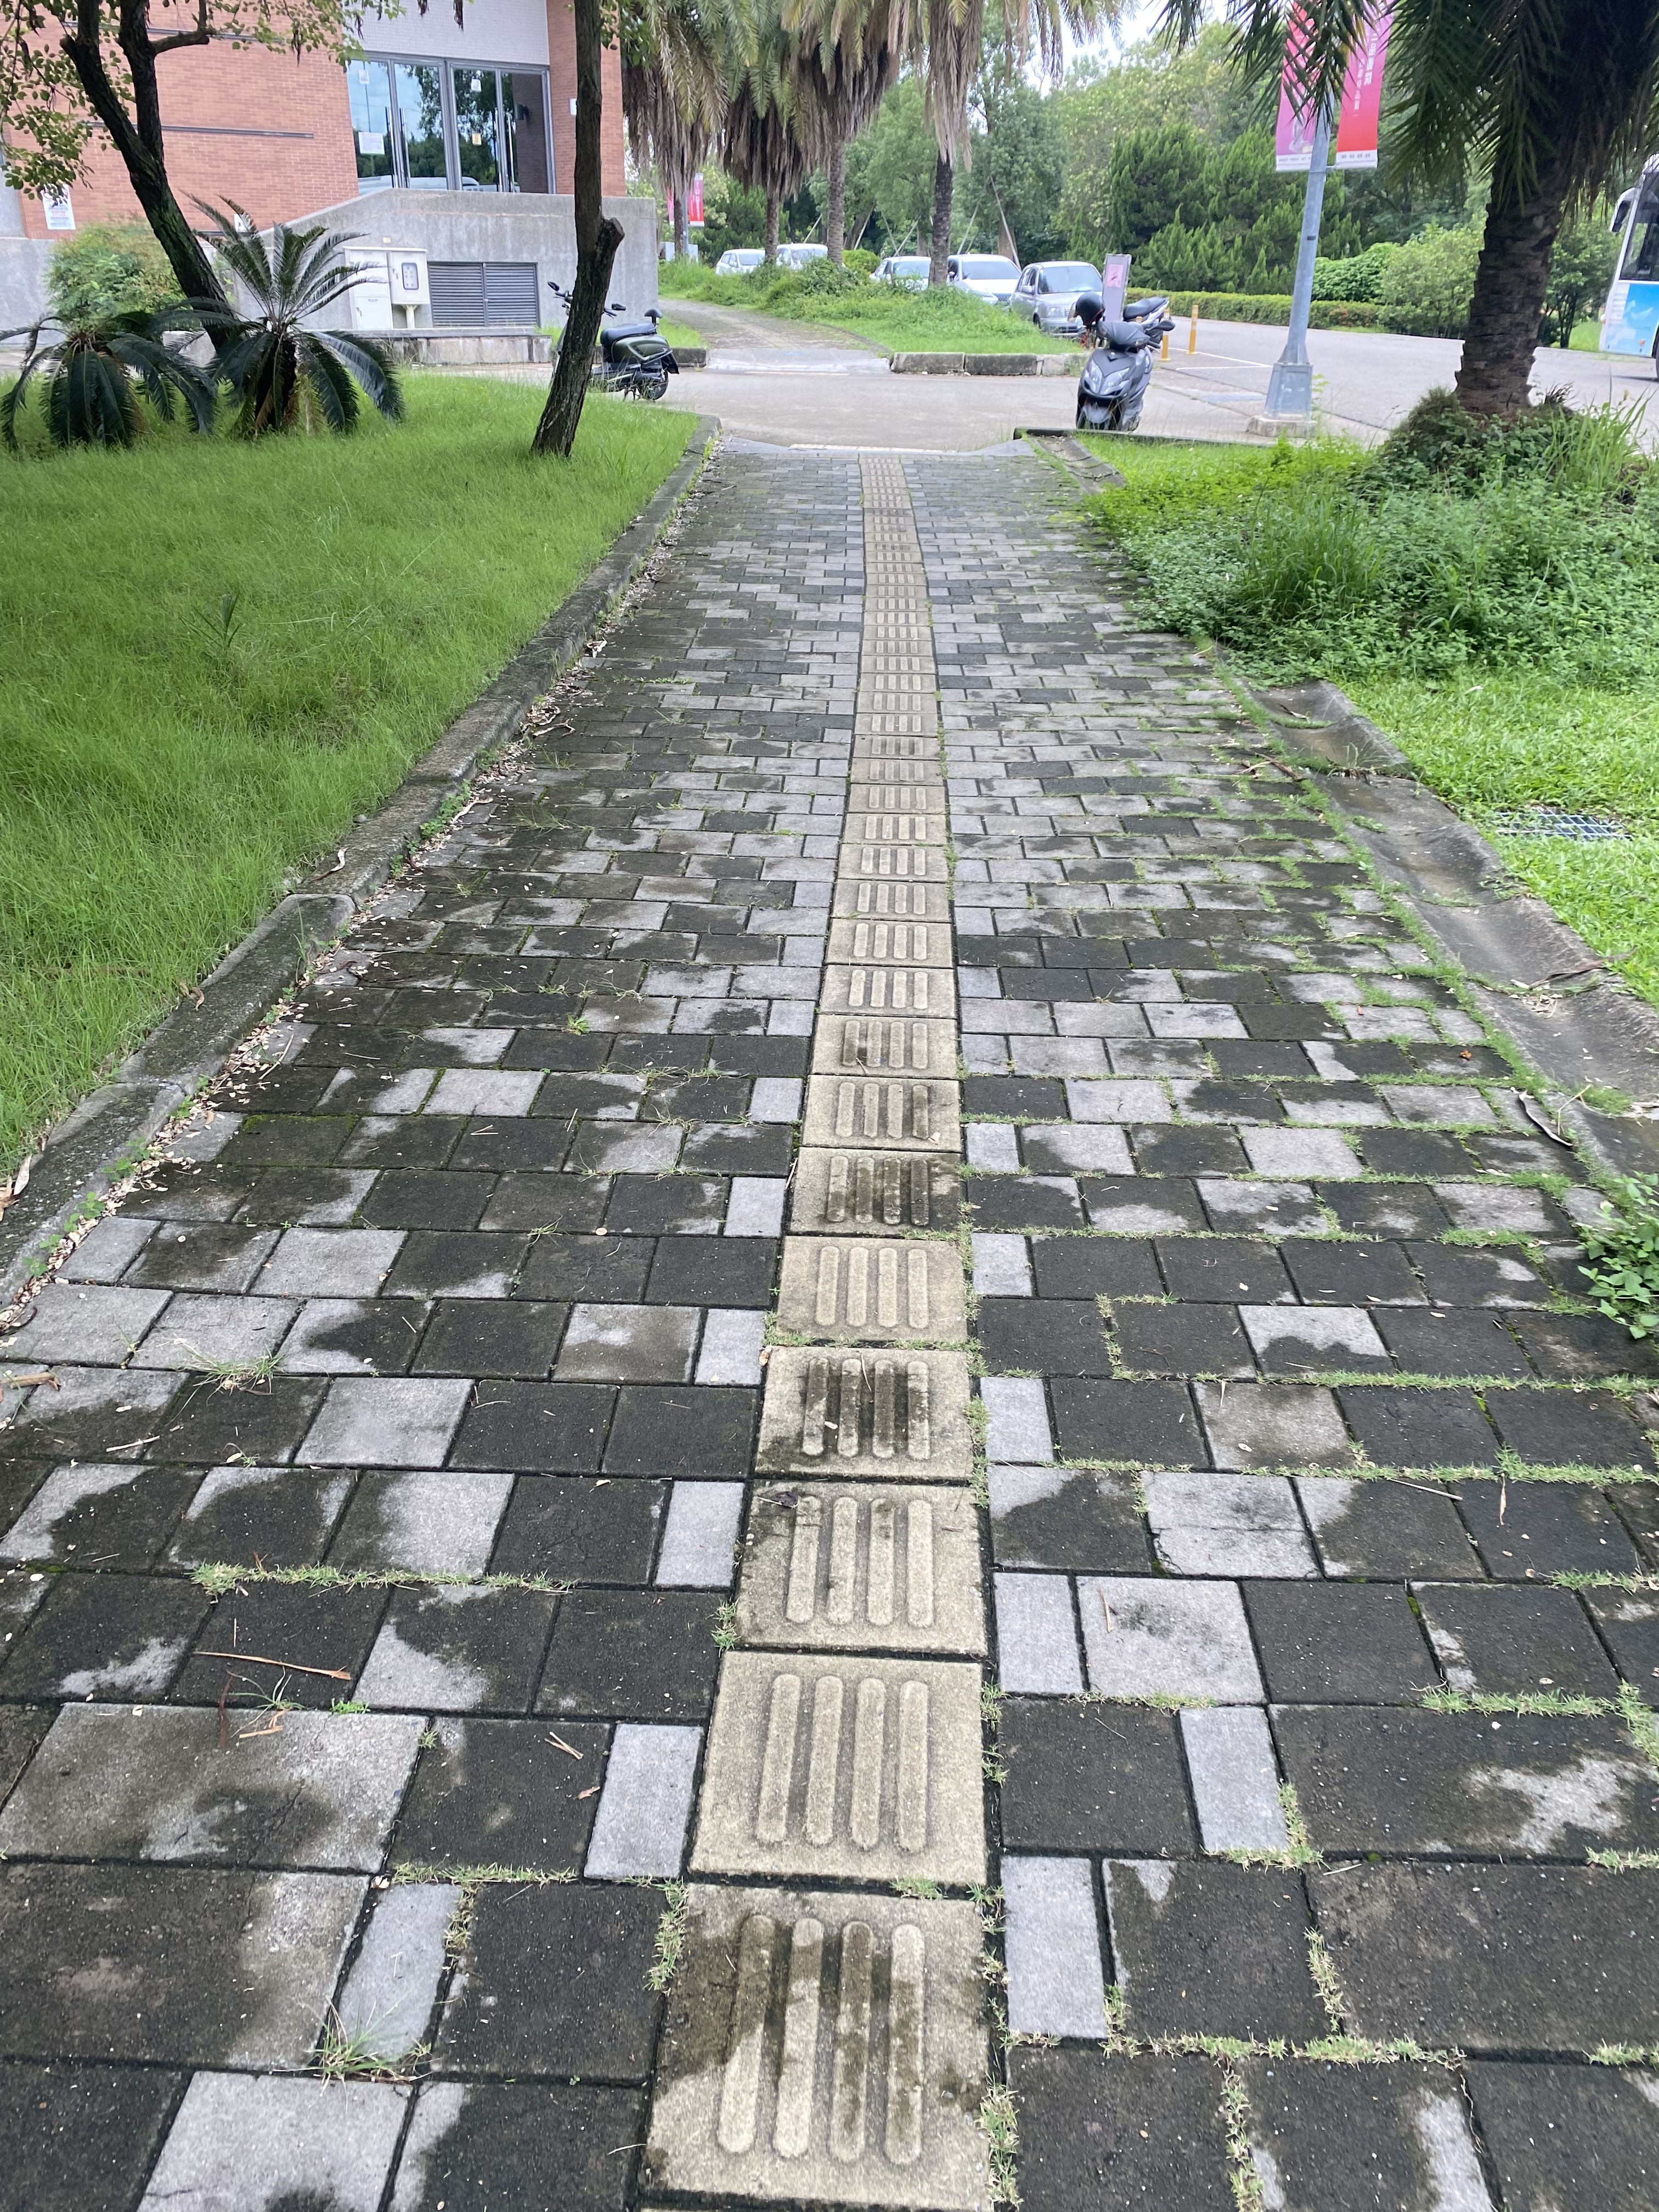sidewalk: (5, 435, 1659, 2212)
